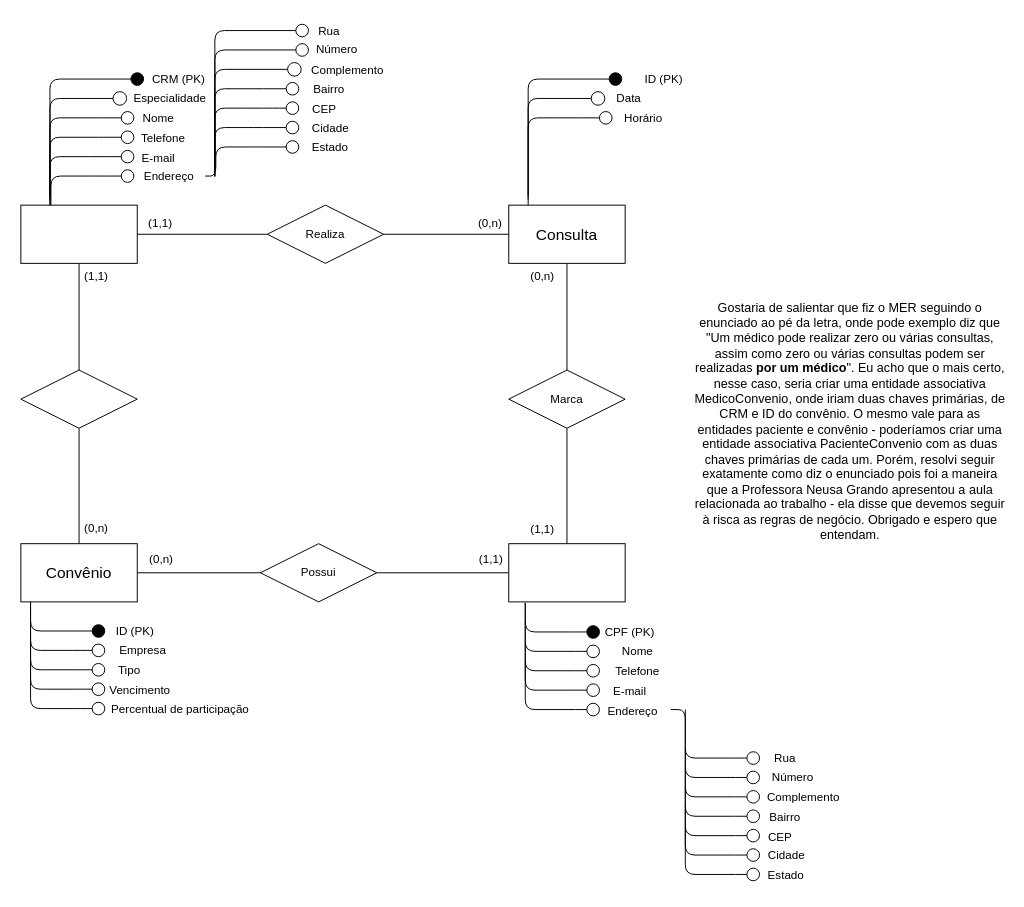
This 1024x907 diagram has some shape labels left out. The centre of each missing label's shape, as x and y in pixels:
Atende: the point at 78,398
Médico: the point at 78,233
Paciente: the point at 566,572
